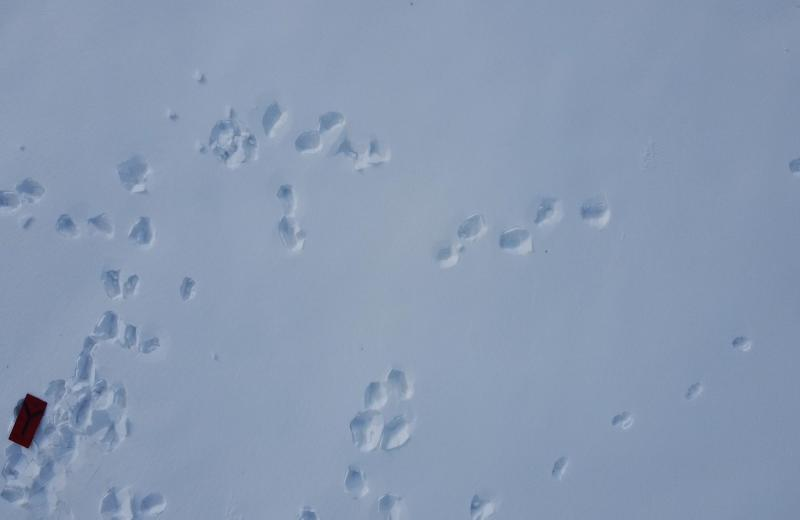Rectangle: (10, 394, 47, 451)
